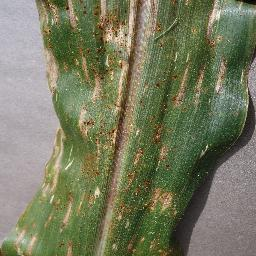Gray_Leaf_Spot: (0, 0, 166, 256), (165, 0, 242, 104), (243, 23, 252, 126), (165, 189, 187, 223), (196, 140, 210, 161), (165, 244, 177, 256)
